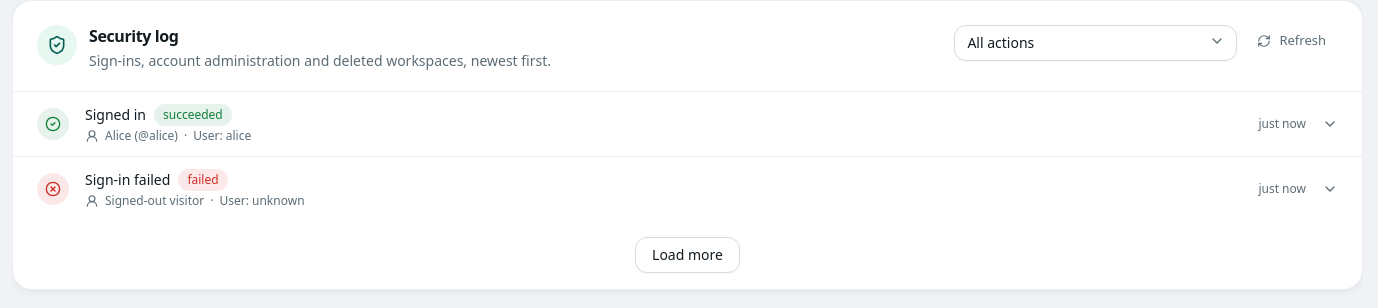
PlatformAuditCard (ADR-142) › shows sign-ins, names a signed-out actor and pages older events
Expected: the text "Signed in" is shown, [85,105,146,125]
Expected: the text "Sign-in failed" is shown, [85,170,170,190]
Click the button "Load more".
click(688, 255)  # box [635,237,740,273]
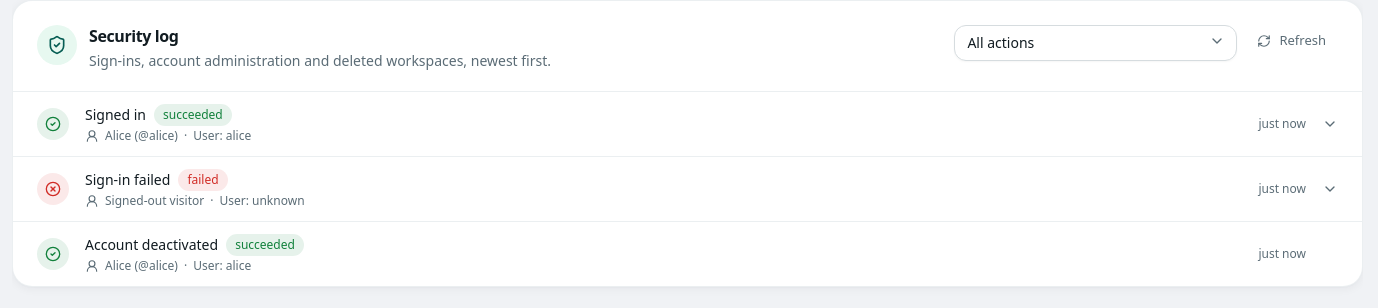
Now the text "Account deactivated" is shown, box [85,235,218,255]
Now the button "Load more" is gone
